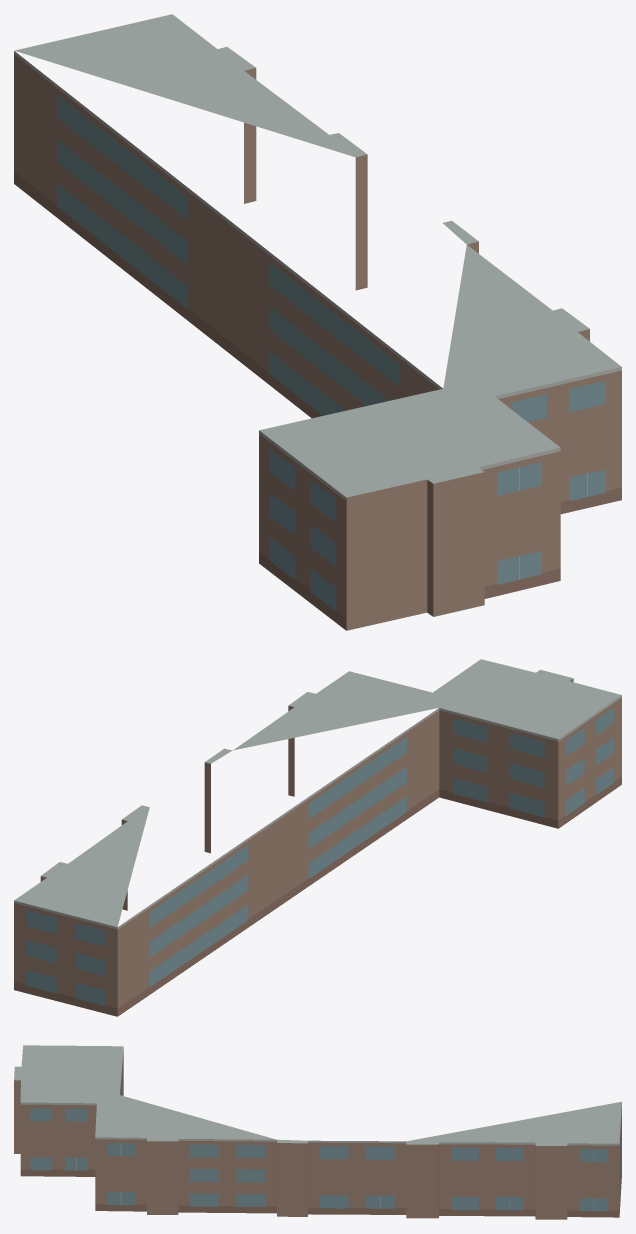
The model's file is survey-upis-32576077.glb.
3 views of the same model, one above another, from view 1: azimuth 30°, elevation 25°; view 2: azimuth 150°, elevation 25°; view 3: azimuth 270°, elevation 25° (orthographic). The views are drawn at different scales.
Visible parts, largest first — view 1: survey-upis-32576077.tmp; view 2: survey-upis-32576077.tmp; view 3: survey-upis-32576077.tmp.
Part boxes in pixels (x1,y1,x2,y2): survey-upis-32576077.tmp: (14, 14, 621, 630); survey-upis-32576077.tmp: (14, 659, 621, 1016); survey-upis-32576077.tmp: (14, 1045, 621, 1219).
Size of the model in its own units: 26.8 by 9.15 by 68.41.
